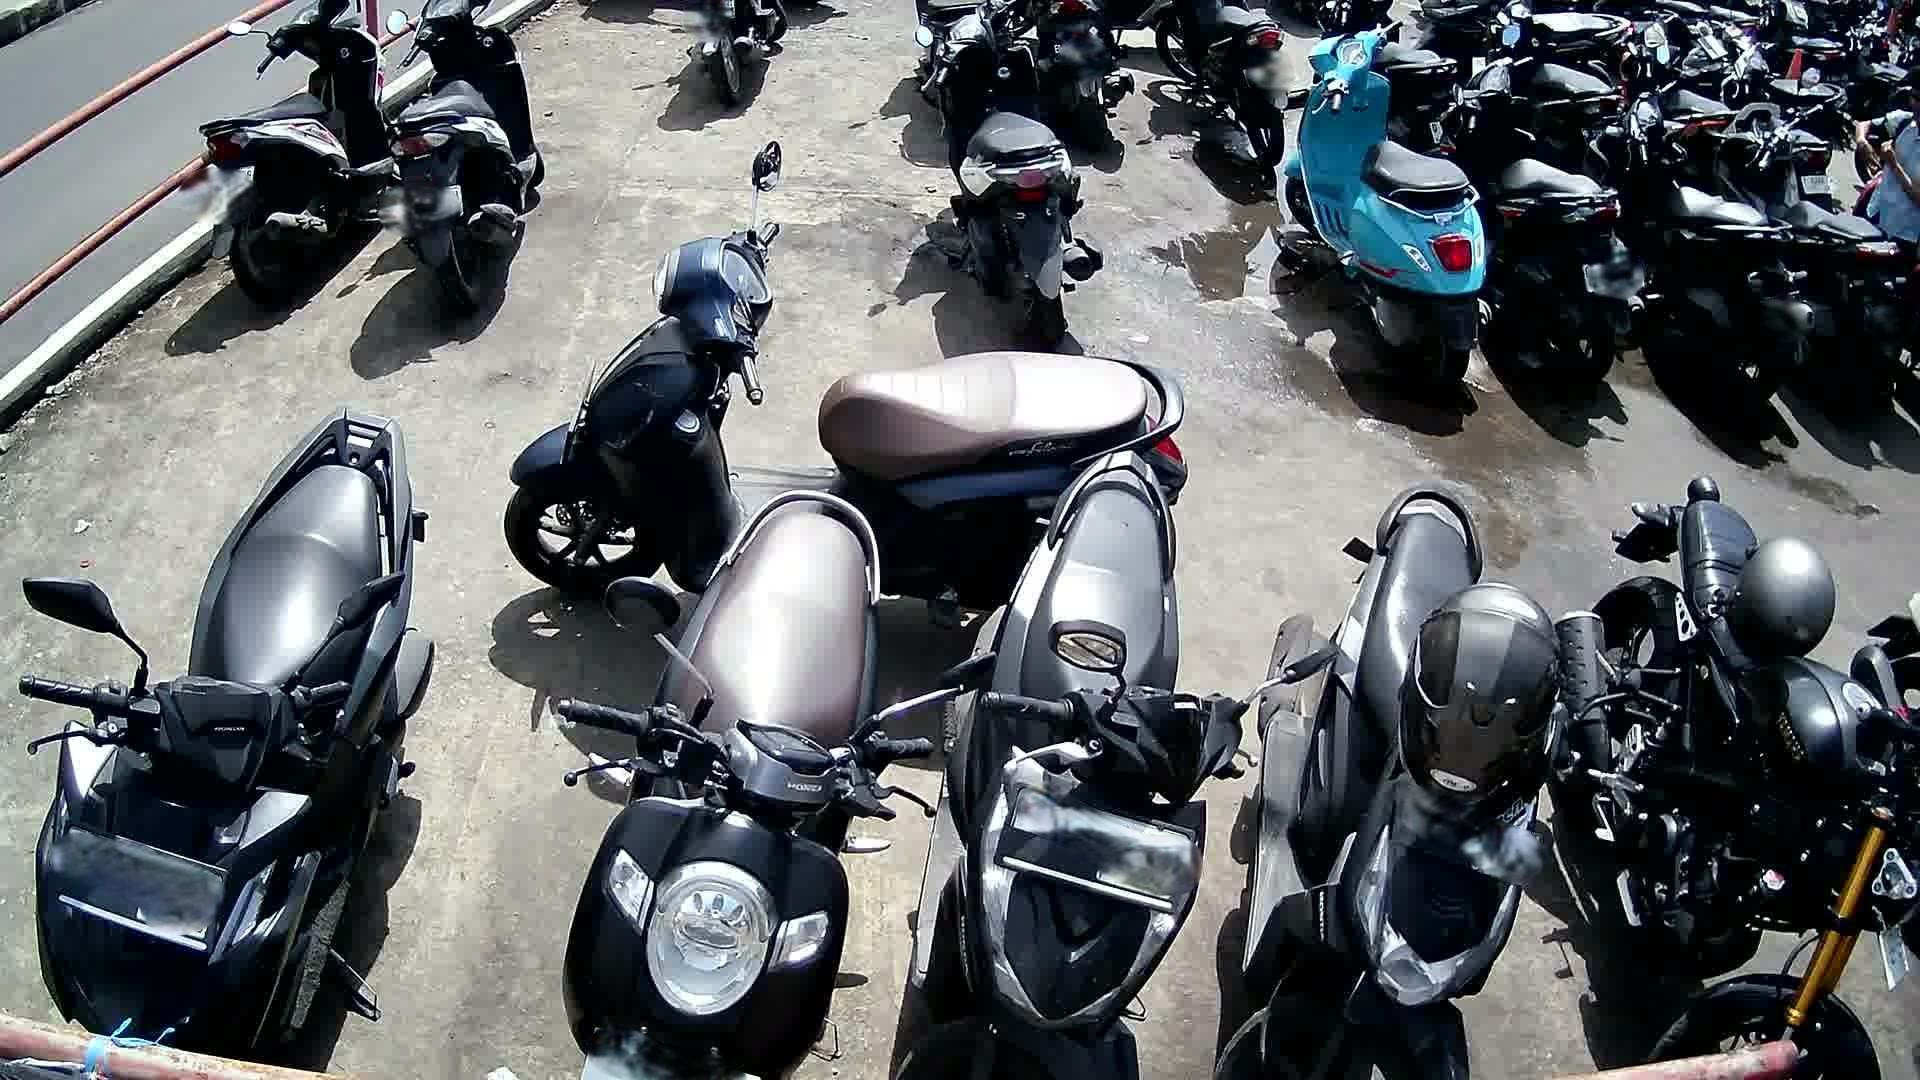motorcycle: (501, 140, 1189, 603), (15, 409, 435, 1065), (897, 451, 1312, 1080), (554, 485, 977, 1080), (1557, 476, 1920, 1080), (1217, 483, 1568, 1080), (1581, 46, 1818, 415), (1276, 13, 1497, 405), (1435, 20, 1651, 393), (1696, 98, 1920, 427), (914, 0, 1105, 345), (195, 0, 392, 309), (384, 0, 550, 319)
